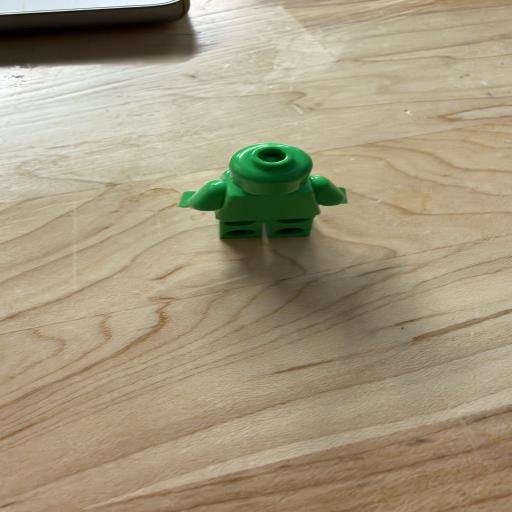green_minifig: (177, 142, 349, 240)
